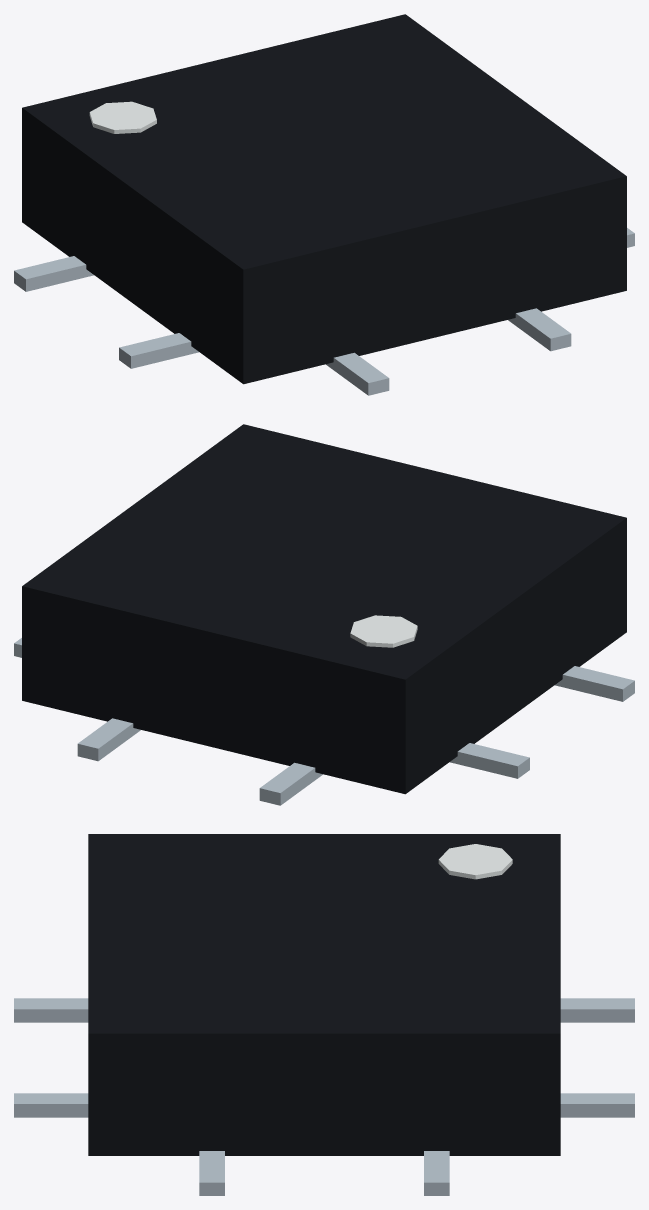
3 renders of one model, top to bottom at view 1: azimuth 30°, elevation 25°; view 2: azimuth 150°, elevation 25°; view 3: azimuth 270°, elevation 25°, orthographic. The views are drawn at different scales.
Visible parts, largest first — view 1: 018_L106_TEMP1_000, 018_L106_TEMP1_009, 018_L106_TEMP1_001, 018_L106_TEMP1_005, 018_L106_TEMP1_006, 018_L106_TEMP1_002; view 2: 018_L106_TEMP1_000, 018_L106_TEMP1_009, 018_L106_TEMP1_005, 018_L106_TEMP1_001, 018_L106_TEMP1_008, 018_L106_TEMP1_004; view 3: 018_L106_TEMP1_000, 018_L106_TEMP1_009, 018_L106_TEMP1_002, 018_L106_TEMP1_004, 018_L106_TEMP1_006, 018_L106_TEMP1_008, 018_L106_TEMP1_003, 018_L106_TEMP1_007.
Boxes of the visible parts, x1,y1,x2,y2 form: 018_L106_TEMP1_000: (22,14,626,384); 018_L106_TEMP1_009: (89,101,156,133); 018_L106_TEMP1_001: (119,333,199,368); 018_L106_TEMP1_005: (14,256,93,291); 018_L106_TEMP1_006: (508,308,571,351); 018_L106_TEMP1_002: (326,352,389,395); 018_L106_TEMP1_000: (22,424,626,794); 018_L106_TEMP1_009: (350,615,417,647); 018_L106_TEMP1_005: (449,743,529,778); 018_L106_TEMP1_001: (555,666,634,701); 018_L106_TEMP1_008: (77,718,140,761); 018_L106_TEMP1_004: (259,762,322,805); 018_L106_TEMP1_000: (88,834,560,1155); 018_L106_TEMP1_009: (438,844,512,879); 018_L106_TEMP1_002: (14,998,88,1022); 018_L106_TEMP1_004: (560,998,634,1022); 018_L106_TEMP1_006: (14,1093,88,1117); 018_L106_TEMP1_008: (560,1093,634,1117); 018_L106_TEMP1_003: (199,1151,224,1195); 018_L106_TEMP1_007: (424,1151,449,1195).
Bounding box in the file's own units: 0.0092 × 0.0092 × 0.00224.
